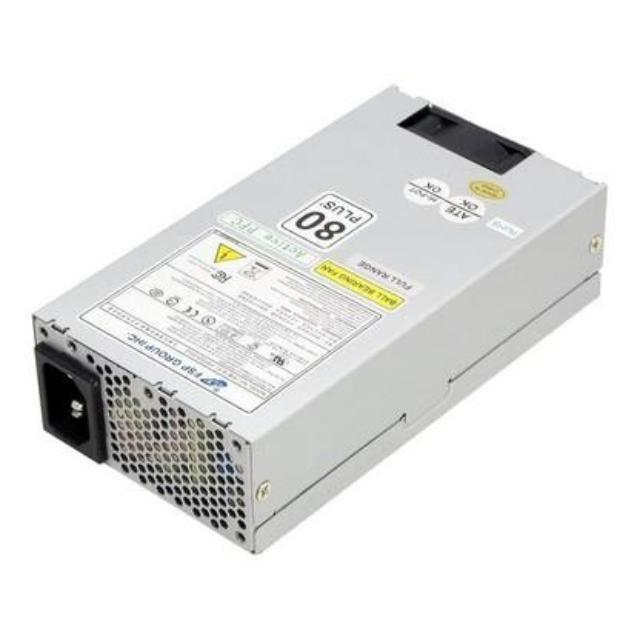PSU: (32, 76, 628, 559)
